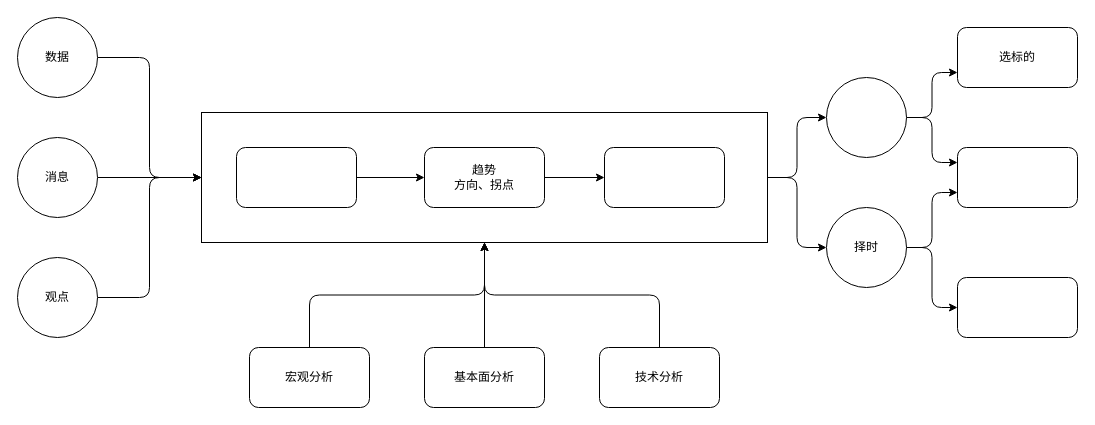
The diagram is 1095 pixels wide and 425 high, and some of its shapes have lost their labels. Each missing label, with the centre of its shape:
定买卖: point (1017, 307)
择股: point (866, 117)
板块 阵型、周期、共振: point (296, 177)
结构 技术指标、图形: point (664, 177)
配仓位: point (1017, 177)
